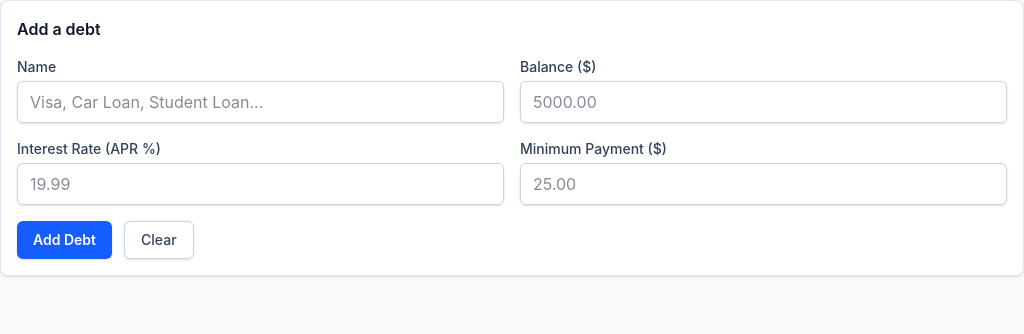
Test: DebtForm › surfaces inline errors on each empty field instead of failing silently
Click the button "Add Debt". click: point(64, 240)
box: [17,221,112,259]
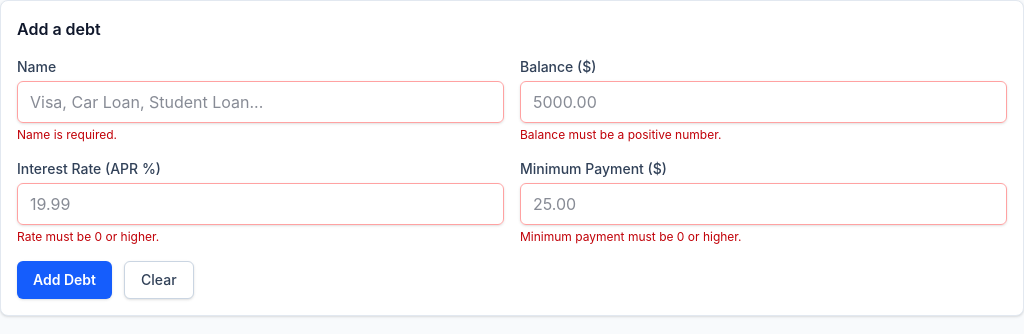
expect the text "Name is required." is shown: met, box [17,127,117,142]
expect the text "Balance must be a positive number." is shown: met, box [520,127,721,142]
expect the text "Rate must be 0 or higher." is shown: met, box [17,229,159,244]
